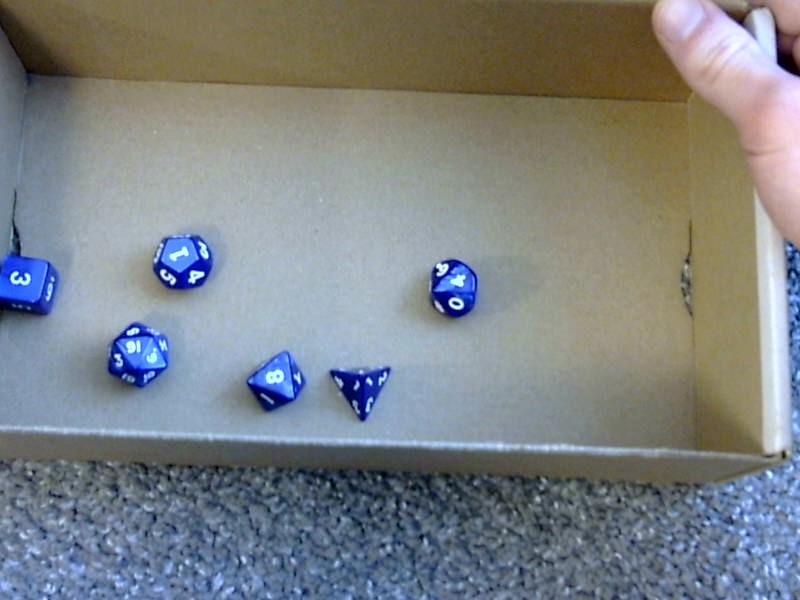d10 4: (424, 253, 480, 322)
d12 1: (148, 229, 214, 293)
d20 16: (101, 323, 171, 387)
d4 1: (325, 361, 392, 423)
d6 3: (0, 251, 64, 317)
d8 8: (238, 344, 308, 415)
